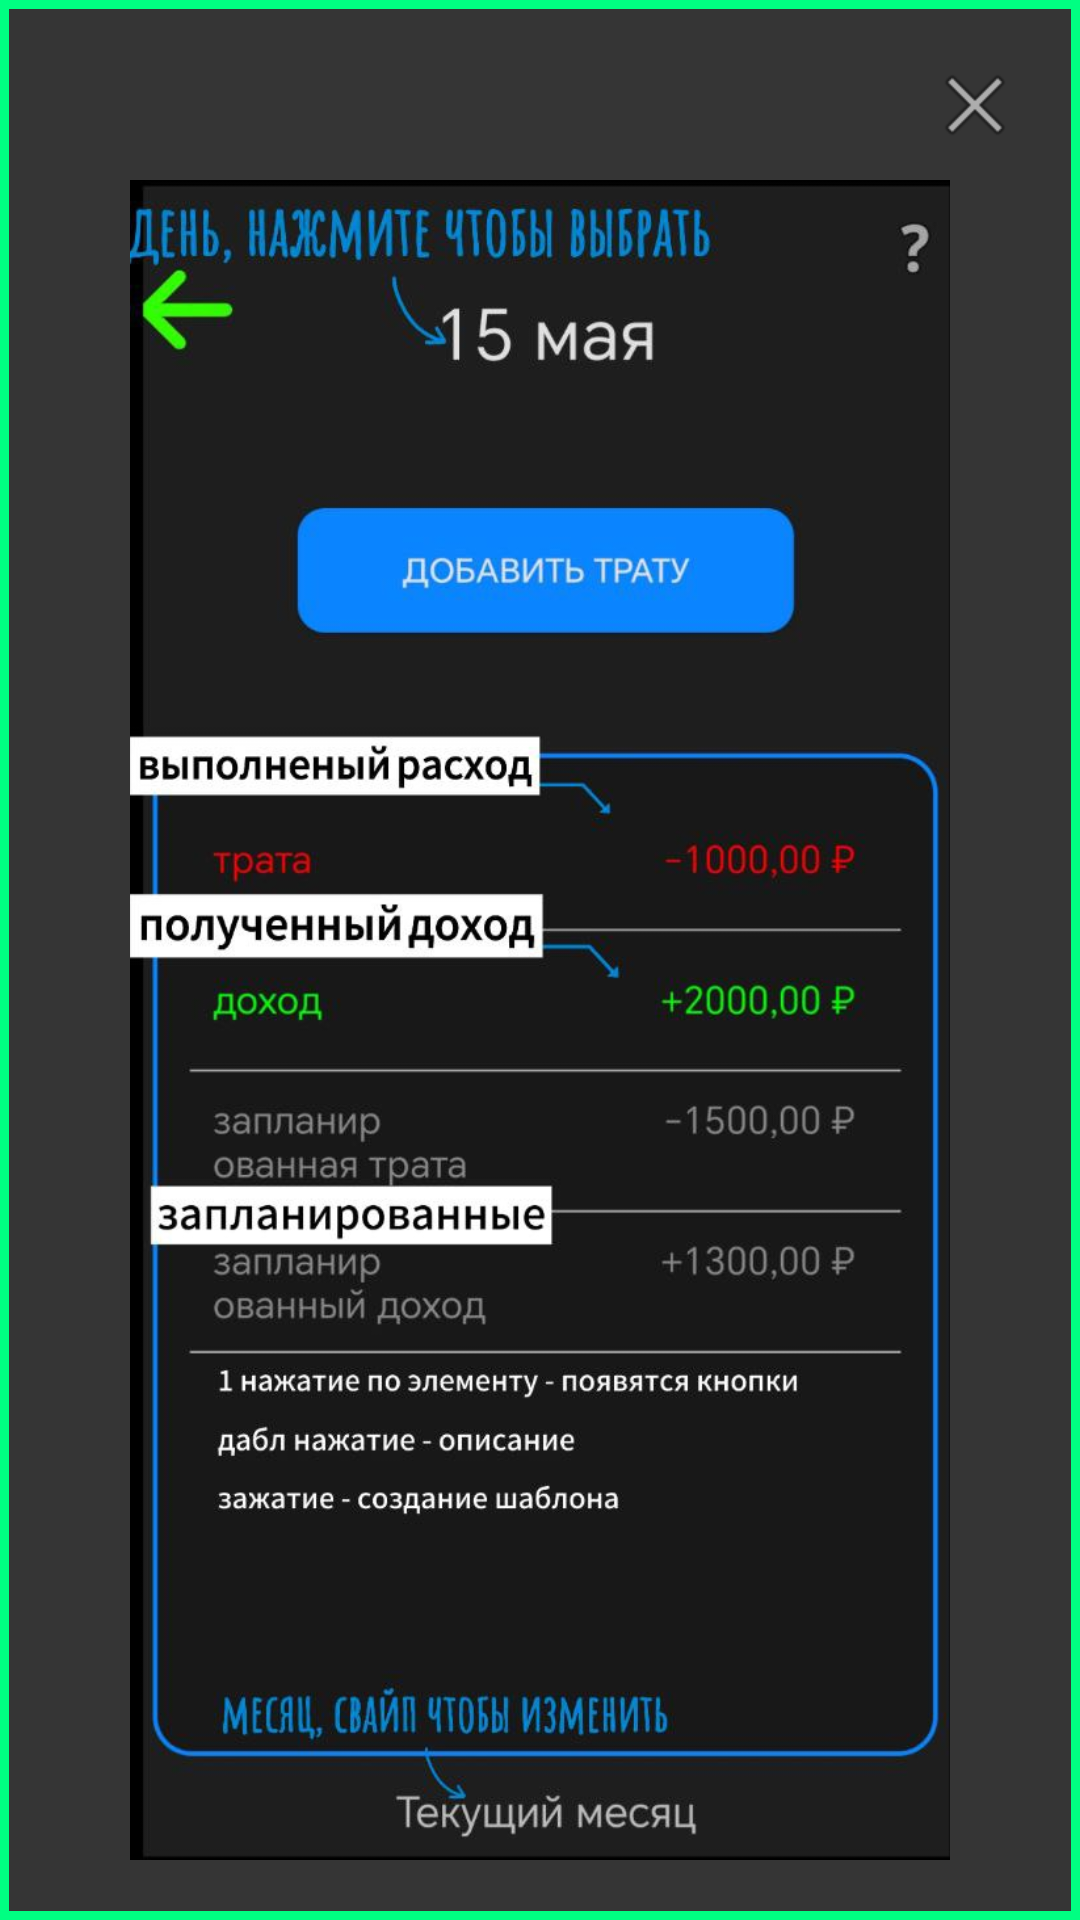

Icon click points for this 1080 x 1920 phone screenshot, format (x,y):
Закрыть: (975,105)
